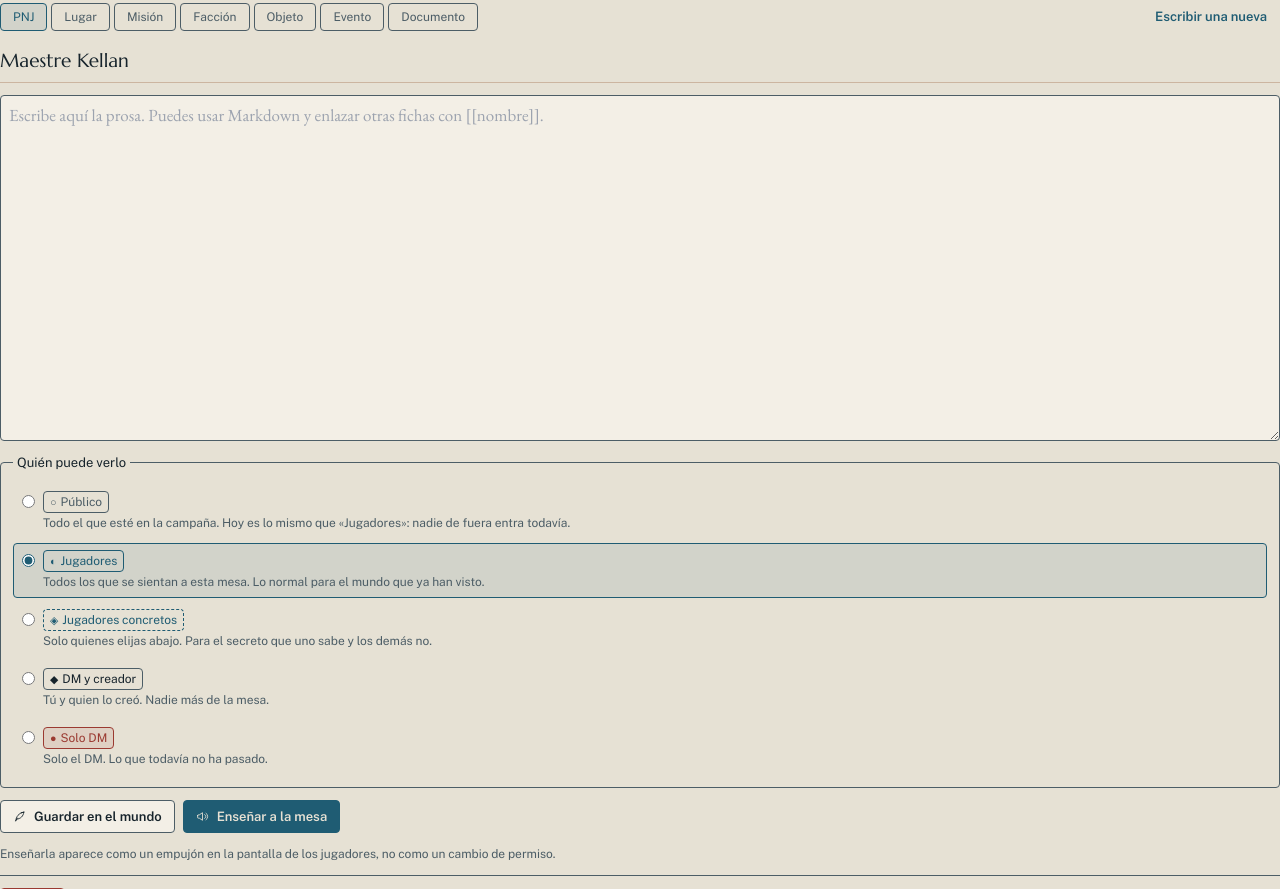
Scenario: reclasificar una ficha (I16) › «Dejarla como está» no cambia el tipo
This screenshot has width=1280, height=889.
Click the button "Documento" at {"x": 433, "y": 17}, box [388,3,478,31]
(page scrolled)
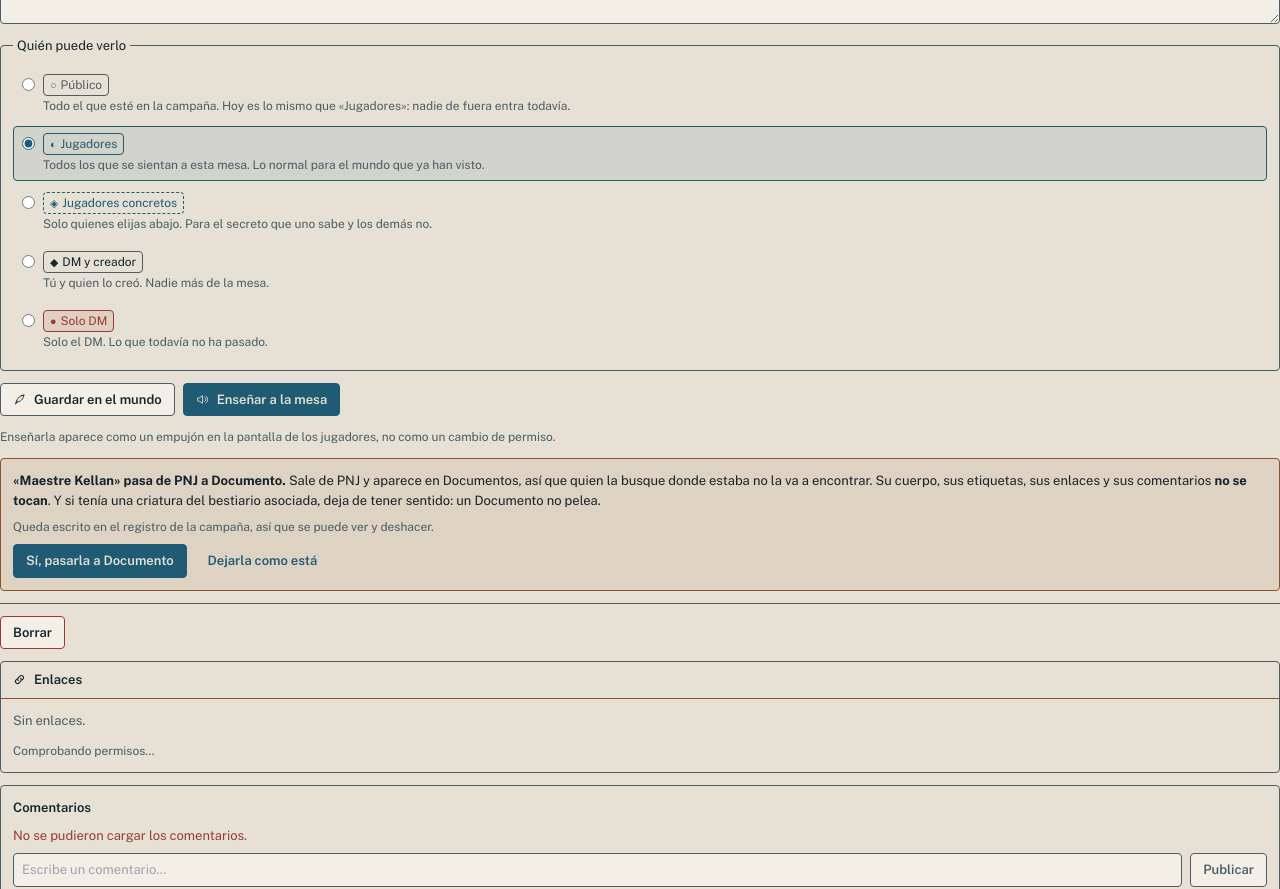
Click the button "Dejarla como está" at {"x": 262, "y": 561}, box [195,544,330,578]
(page scrolled)
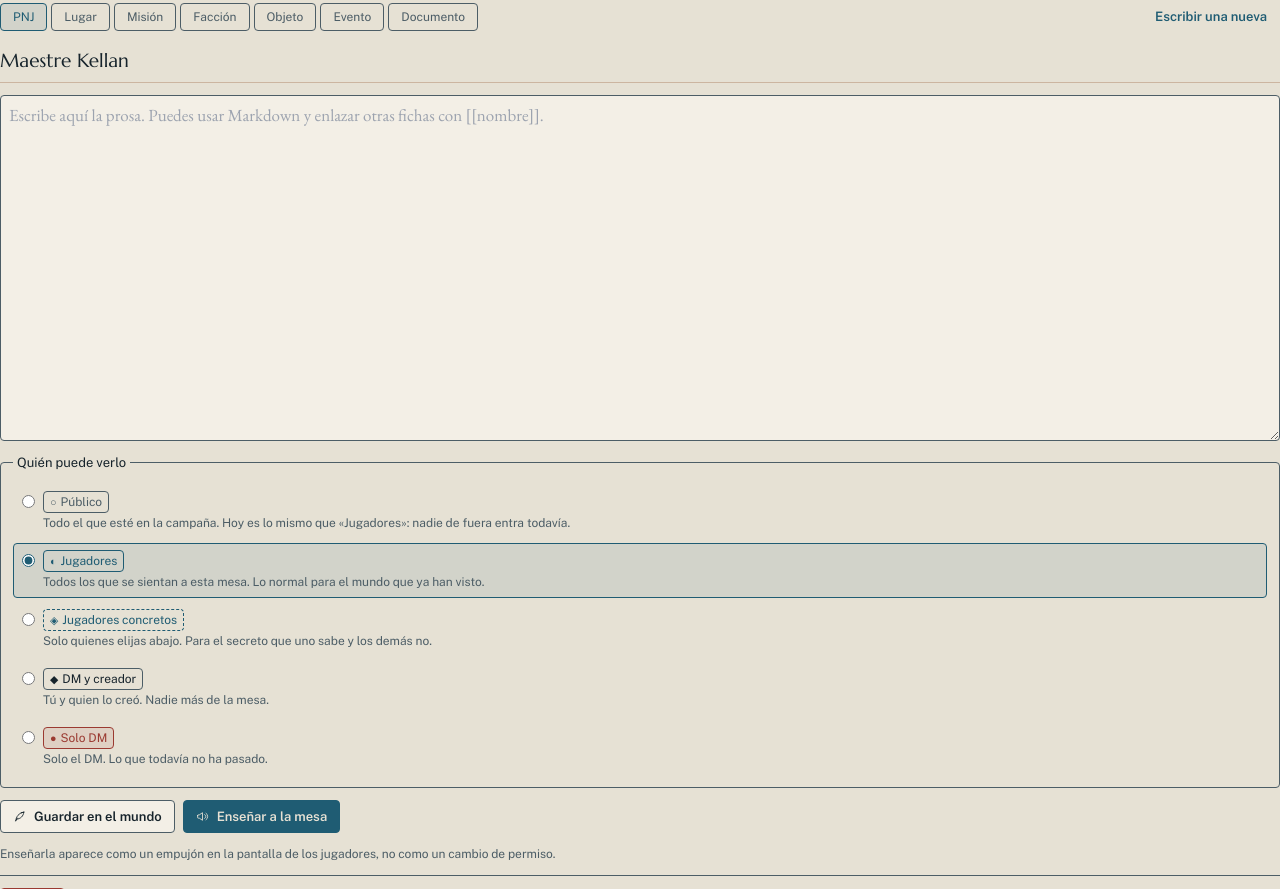
Result: the dialog is gone
